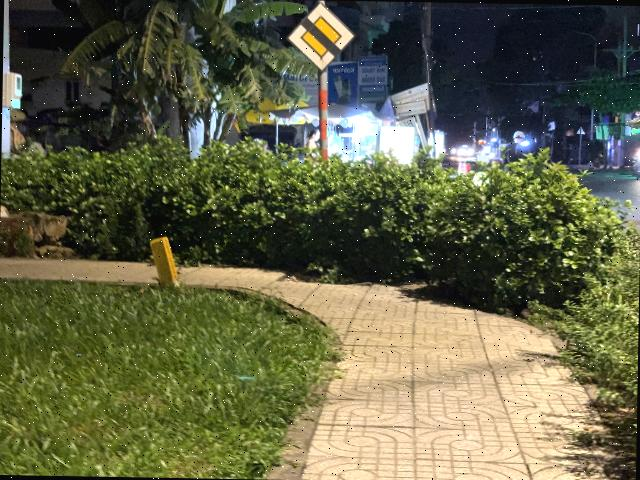het-duong-uu-tien: (286, 0, 358, 72)
